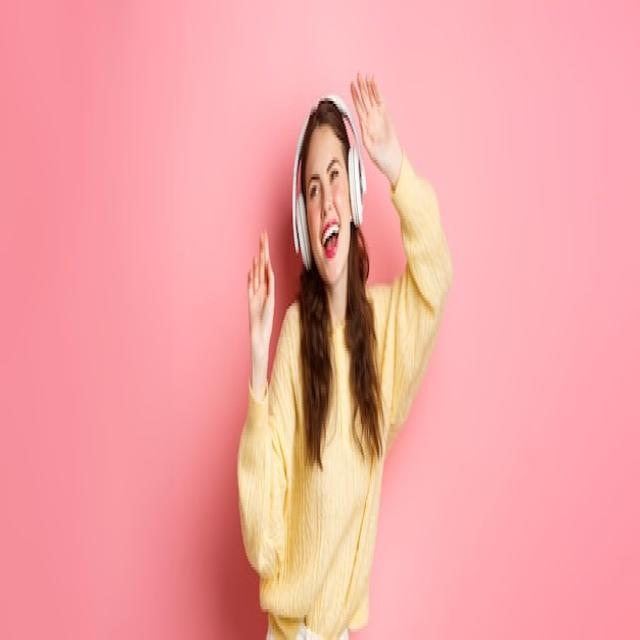Headphone: (291, 96, 365, 272)
